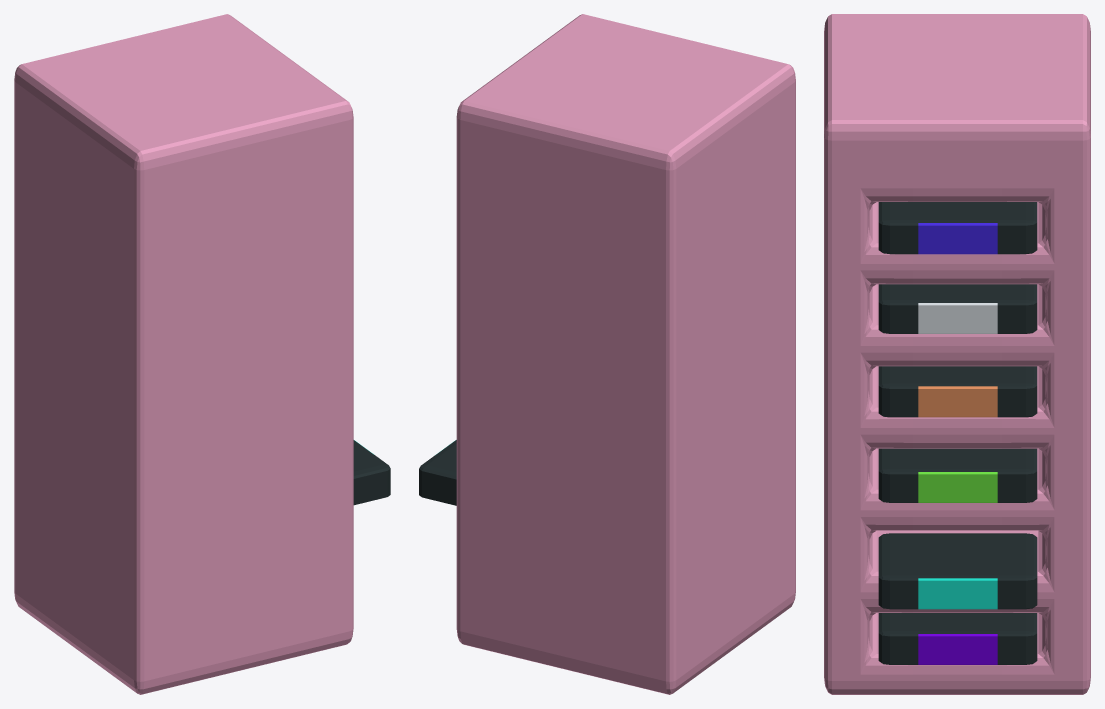
Rendered from shelfState2.glb.
The picture shows the model from 3 angles, left to right: view 1: azimuth 30°, elevation 25°; view 2: azimuth 150°, elevation 25°; view 3: azimuth 270°, elevation 25°; orthographic projection. The views are drawn at different scales.
Visible parts, largest first — view 1: Cube, Cube.005; view 2: Cube, Cube.005; view 3: Cube, Cube.005, Cube.004, Cube.003, Cube.006, Cube.001, Cube.002.
Part boxes in pixels (x1,y1,x2,y2): Cube: (14,14,353,694); Cube.005: (353,440,390,505); Cube: (456,14,795,694); Cube.005: (419,440,456,505); Cube: (824,14,1090,694); Cube.005: (878,533,1037,609); Cube.004: (878,448,1037,502); Cube.003: (878,202,1037,254); Cube.006: (878,613,1037,664); Cube.001: (878,366,1037,417); Cube.002: (878,284,1037,333).
Bounding box in the file's own units: 2.58 × 4.76 × 2.
